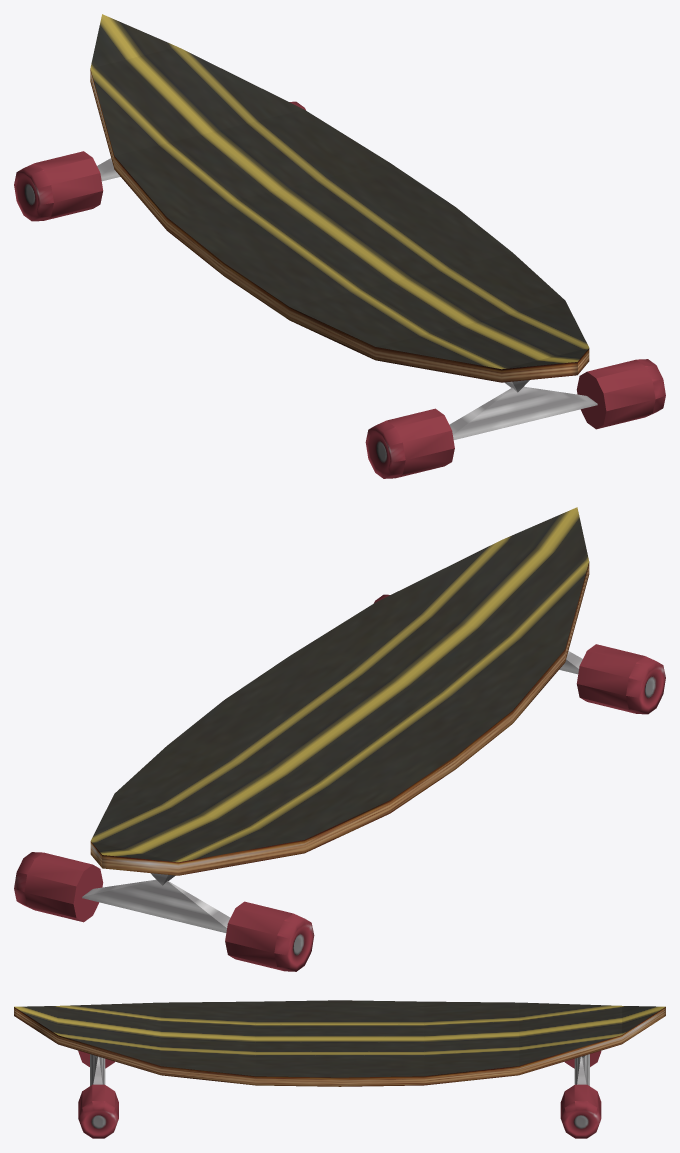
The model's file is Skateboard-Mesh.FBX.
3 renders of one model, top to bottom at view 1: azimuth 30°, elevation 25°; view 2: azimuth 150°, elevation 25°; view 3: azimuth 270°, elevation 25°, orthographic. The views are drawn at different scales.
Visible parts, largest first — view 1: A_board, A_wheelFL, A_wheelBL, A_wheelBR, A_axleB; view 2: A_board, A_wheelFL, A_wheelBL, A_wheelFR, A_axleF; view 3: A_board, A_wheelFR, A_wheelBR, A_axleF, A_axleB.
Boxes of the visible parts, x1,y1,x2,y2 form: A_board: (90, 14, 589, 382); A_wheelFL: (14, 151, 103, 221); A_wheelBL: (365, 408, 454, 478); A_wheelBR: (576, 359, 665, 429); A_axleB: (449, 386, 597, 439); A_board: (90, 507, 589, 875); A_wheelFL: (225, 901, 314, 971); A_wheelBL: (576, 644, 665, 714); A_wheelFR: (14, 852, 103, 922); A_axleF: (82, 879, 230, 932); A_board: (14, 1000, 665, 1086); A_wheelFR: (560, 1084, 601, 1138); A_wheelBR: (78, 1084, 118, 1138); A_axleF: (574, 1054, 589, 1085); A_axleB: (90, 1054, 105, 1085).
Size of the model in its own units: 38.54 by 17.24 by 116.
